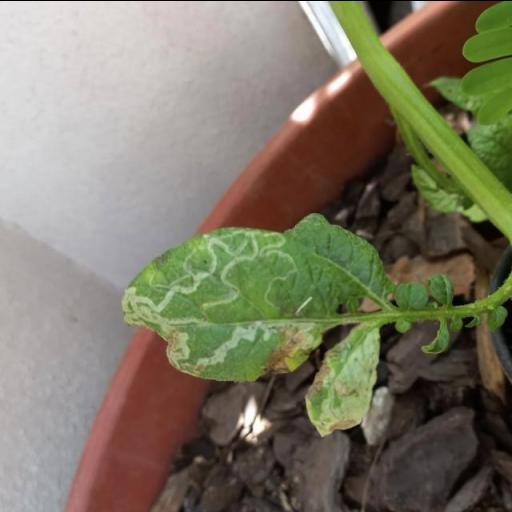disease_tomato: (120, 206, 398, 382)
